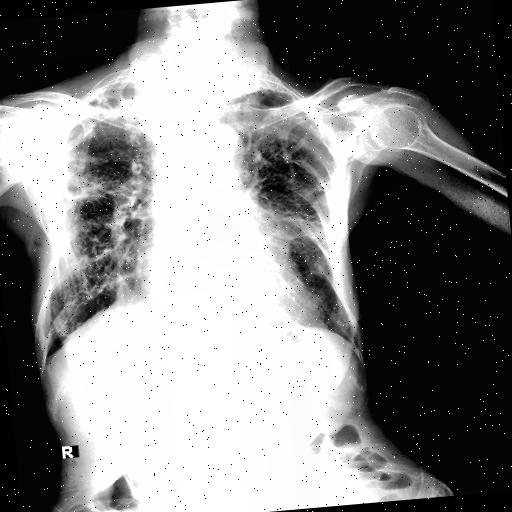0- Aortic enlargement: (198, 119, 244, 178)
1- Atelectasis: (54, 106, 163, 294)
11- Pleural thickening: (55, 82, 161, 140), (216, 71, 298, 102), (320, 160, 350, 242), (218, 75, 296, 103), (217, 74, 297, 101), (107, 271, 136, 305), (36, 348, 56, 368)
13- Pulmonary fibrosis: (48, 79, 168, 307), (209, 86, 334, 250), (54, 106, 163, 294), (229, 80, 328, 155), (246, 196, 340, 244)
3- Cardiomegaly: (142, 254, 324, 340)
7- Lung Opacity: (55, 82, 161, 140), (76, 73, 152, 117), (260, 210, 336, 246), (51, 152, 101, 204), (216, 71, 298, 102), (308, 175, 340, 209)
